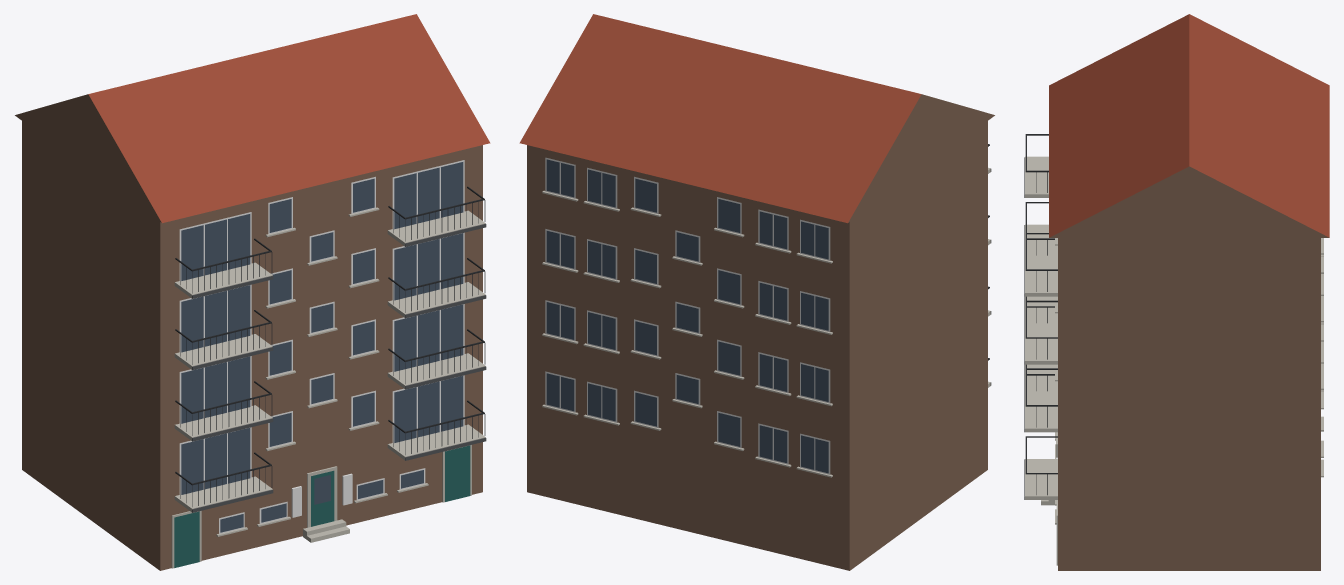
Rendered from nw-portiek-wide-core-slotermeerlaan__brick-red__5__gable__long__solid.glb.
3 views of the same model, side by side, from view 1: azimuth 30°, elevation 25°; view 2: azimuth 150°, elevation 25°; view 3: azimuth 270°, elevation 25° (orthographic). The views are drawn at different scales.
Parts seen in each view (by area): view 1: nw-portiek-wide-core-slotermeerlaan__brick-red__5__gable__lo; view 2: nw-portiek-wide-core-slotermeerlaan__brick-red__5__gable__lo; view 3: nw-portiek-wide-core-slotermeerlaan__brick-red__5__gable__lo.
Boxes of the visible parts, x1,y1,x2,y2 form: nw-portiek-wide-core-slotermeerlaan__brick-red__5__gable__lo: [15, 14, 490, 570]; nw-portiek-wide-core-slotermeerlaan__brick-red__5__gable__lo: [519, 14, 994, 570]; nw-portiek-wide-core-slotermeerlaan__brick-red__5__gable__lo: [1024, 14, 1329, 570].
Size of the model in its own units: 14.24 by 17.68 by 12.06.
